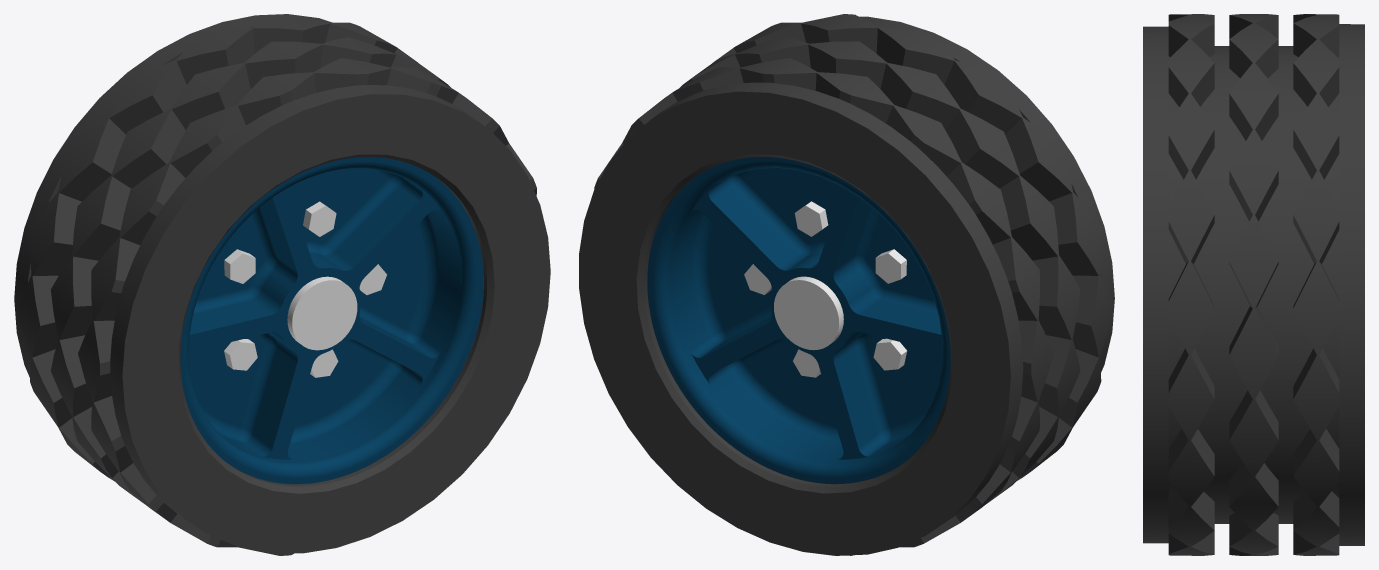
The model's file is 550-ddeepp.glb.
The picture shows the model from 3 angles, left to right: view 1: azimuth 30°, elevation 25°; view 2: azimuth 150°, elevation 25°; view 3: azimuth 270°, elevation 25°; orthographic projection. The views are drawn at different scales.
Parts seen in each view (by area): view 1: Body164, Body2, Body237, Body101, Body108, Body110; view 2: Body164, Body2, Body238, Body109, Body106, Body111; view 3: Body164.
Part boxes in pixels (x1,y1,x2,y2): Body164: (14, 14, 550, 555); Body2: (180, 157, 483, 484); Body237: (287, 276, 357, 350); Body101: (224, 249, 255, 283); Body108: (224, 339, 257, 370); Body110: (303, 201, 336, 236); Body164: (579, 14, 1114, 555); Body2: (647, 157, 950, 483); Body238: (774, 276, 843, 350); Body109: (875, 249, 906, 283); Body106: (873, 338, 907, 370); Body111: (794, 201, 828, 236); Body164: (1143, 14, 1364, 555).
Bounding box in the file's own units: 0.5497 × 0.5497 × 0.225.
